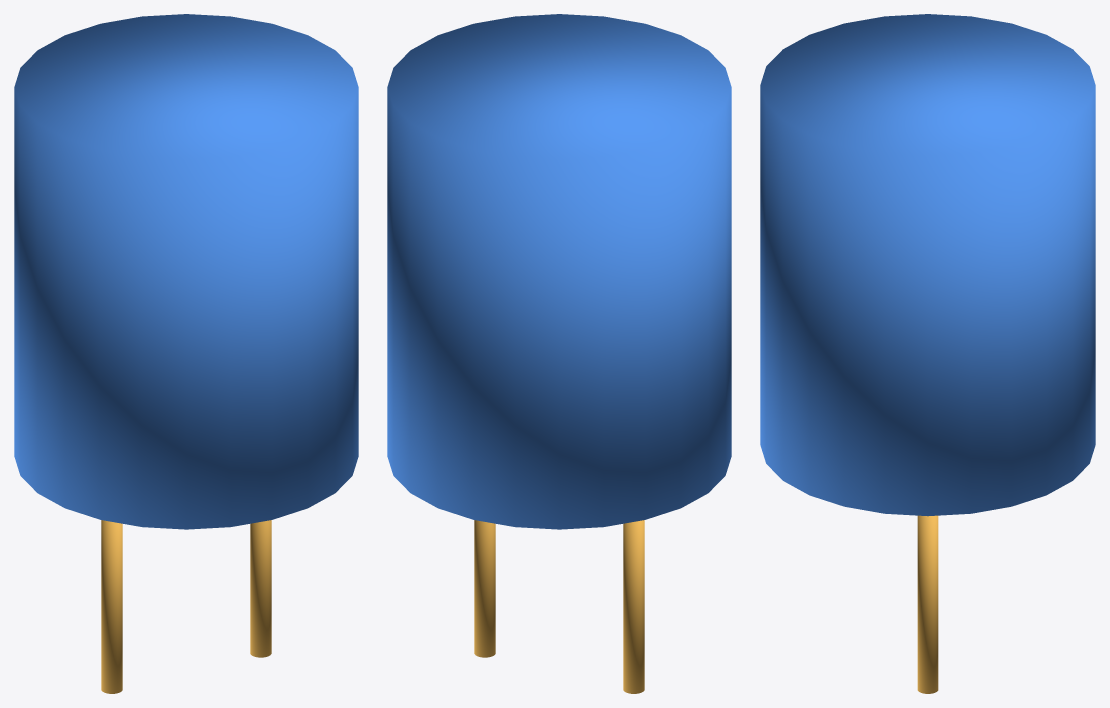
Rendered from capacitor-quality.glb.
The picture shows the model from 3 angles, left to right: view 1: azimuth 30°, elevation 25°; view 2: azimuth 150°, elevation 25°; view 3: azimuth 270°, elevation 25°; orthographic projection. The views are drawn at different scales.
Parts seen in each view (by area): view 1: Capacitor body; view 2: Capacitor body; view 3: Capacitor body.
Part boxes in pixels (x1,y1,x2,y2): Capacitor body: (14,14,358,693); Capacitor body: (387,14,731,693); Capacitor body: (760,14,1095,693).
Size of the model in its own units: 0.8 by 1.5 by 0.8.
